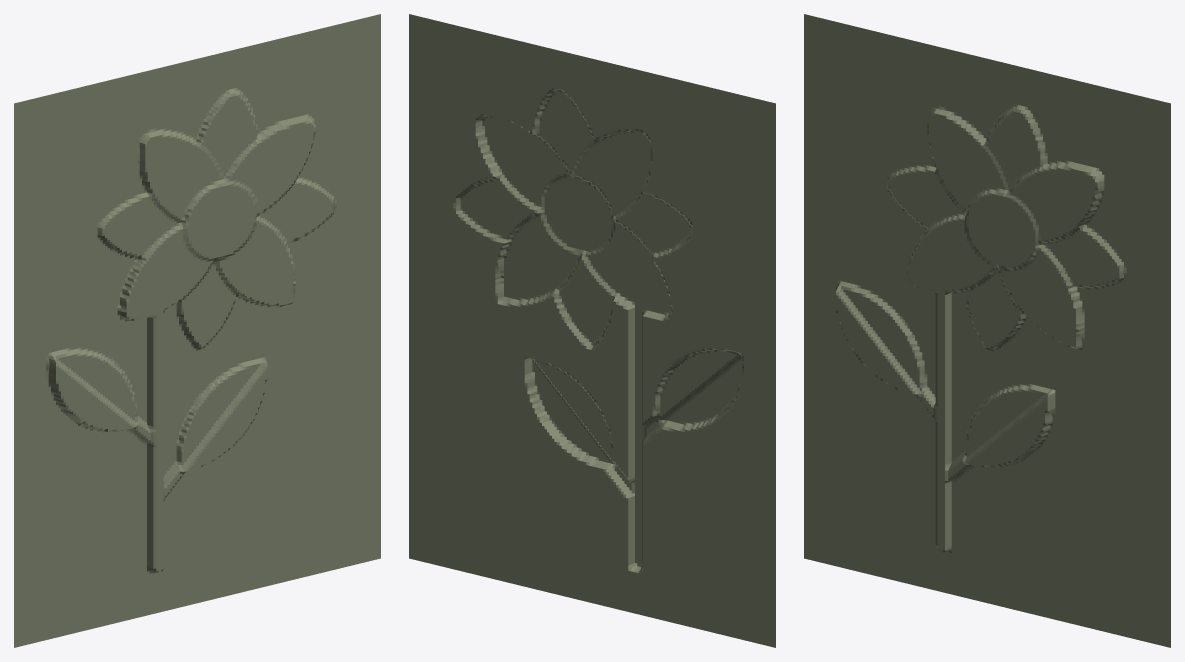
The model's file is sunflower.glb.
3 renders of one model, left to right at view 1: azimuth 30°, elevation 25°; view 2: azimuth 150°, elevation 25°; view 3: azimuth 330°, elevation 25°, orthographic.
Visible parts, largest first — view 1: Plane.044; view 2: Plane.044; view 3: Plane.044.
Boxes of the visible parts, x1,y1,x2,y2 form: Plane.044: (14, 14, 380, 647); Plane.044: (409, 14, 775, 647); Plane.044: (804, 14, 1170, 647).
Size of the model in its own units: 4.1 by 5.82 by 0.0987.
